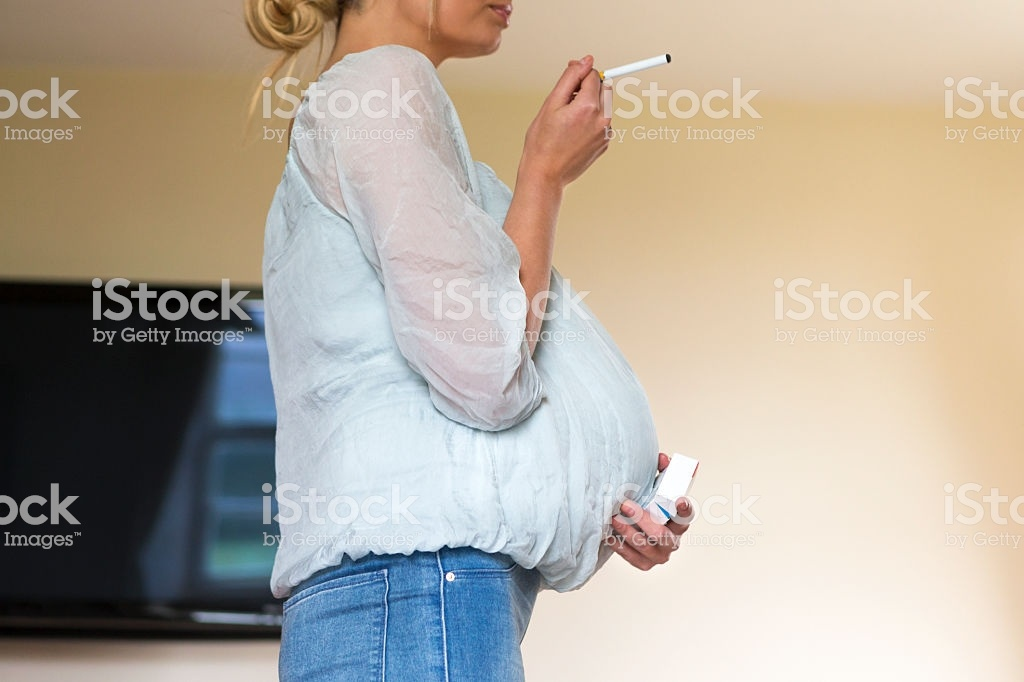sigaretta: (586, 46, 673, 86)
